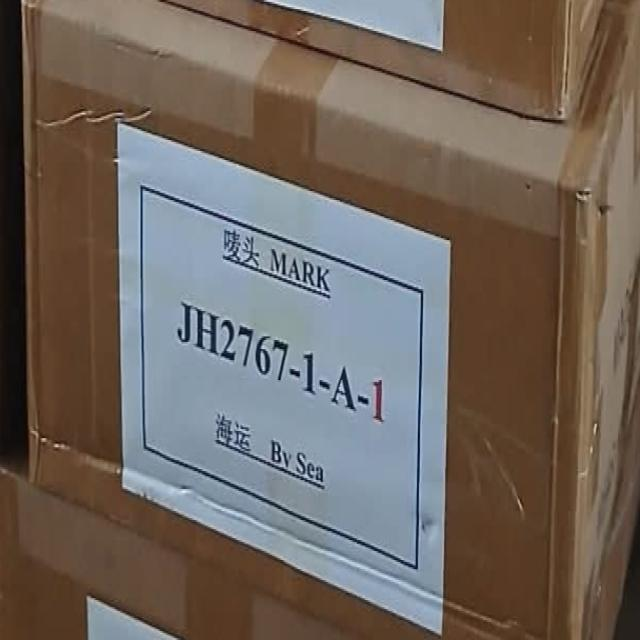carton_box: (14, 0, 640, 640)
export_mark_label: (104, 94, 458, 620)
package_damage: (593, 187, 619, 238), (418, 507, 444, 544)
